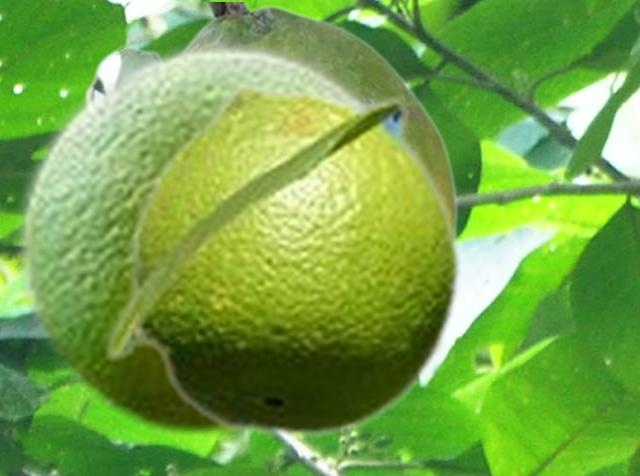dalandan: (12, 35, 446, 437), (101, 81, 464, 440), (82, 2, 458, 226)
